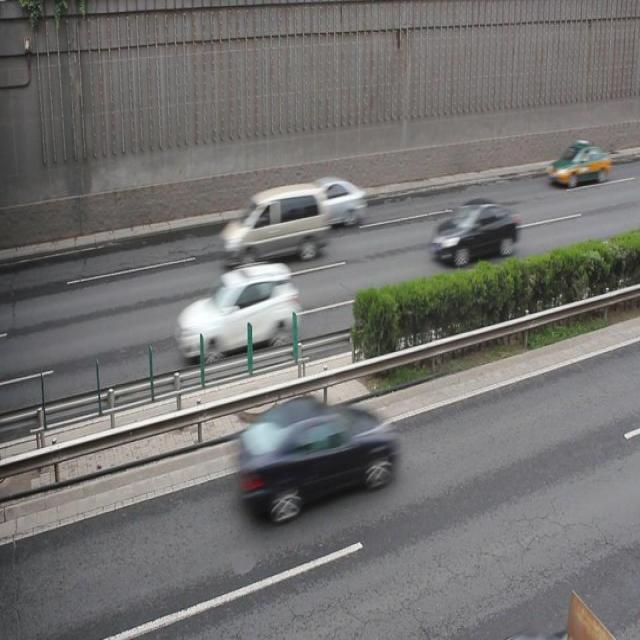car: (242, 390, 398, 518), (175, 258, 300, 357), (431, 198, 518, 262), (546, 136, 609, 188), (313, 173, 366, 230)
truck: (218, 179, 326, 267)
